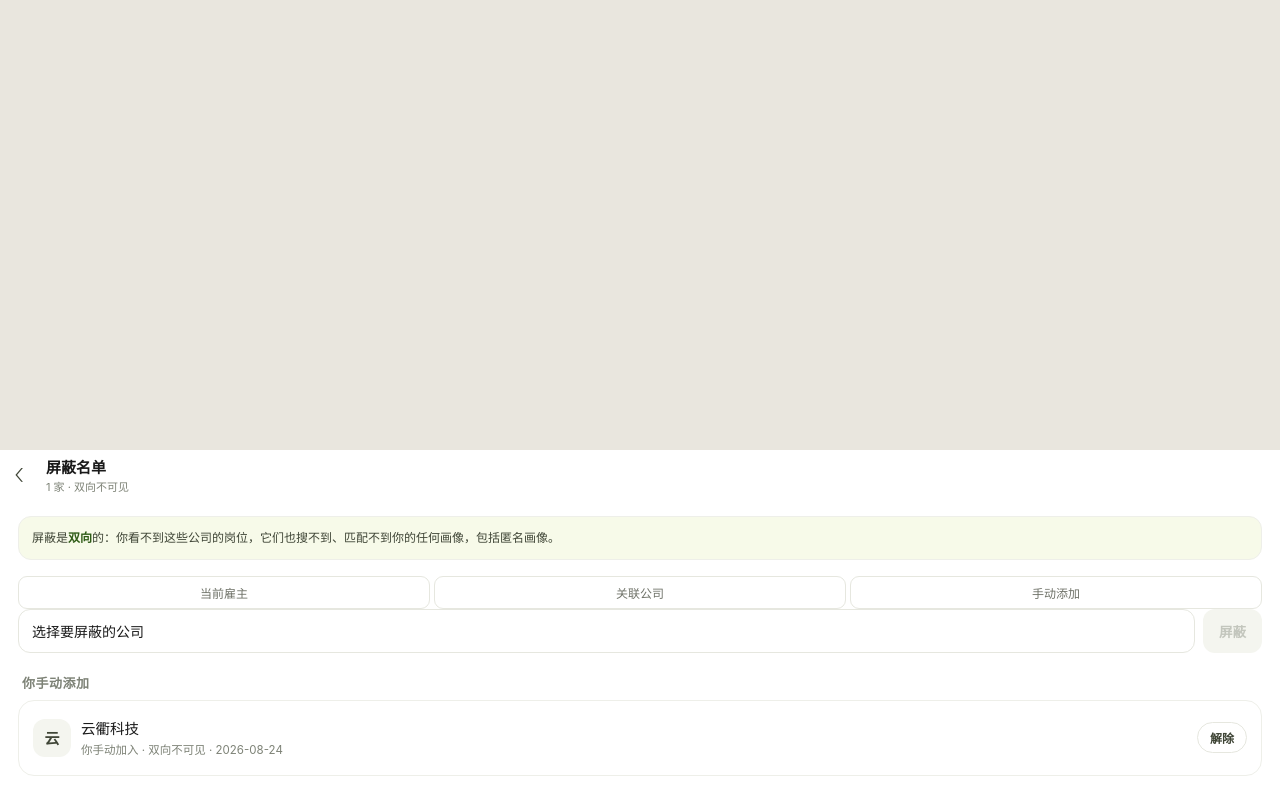
Test: 屏蔽名单 · Backend 公司选择抽屉写线 › 抽屉搜索命中但不点「屏蔽」就没有任何写入，也不派发本地拉黑
(page scrolled)
Expected: the text "你手动添加" is shown once, [22,675,90,691]
Click the button "选择要屏蔽的公司": (88, 631) [18,609,1195,653]
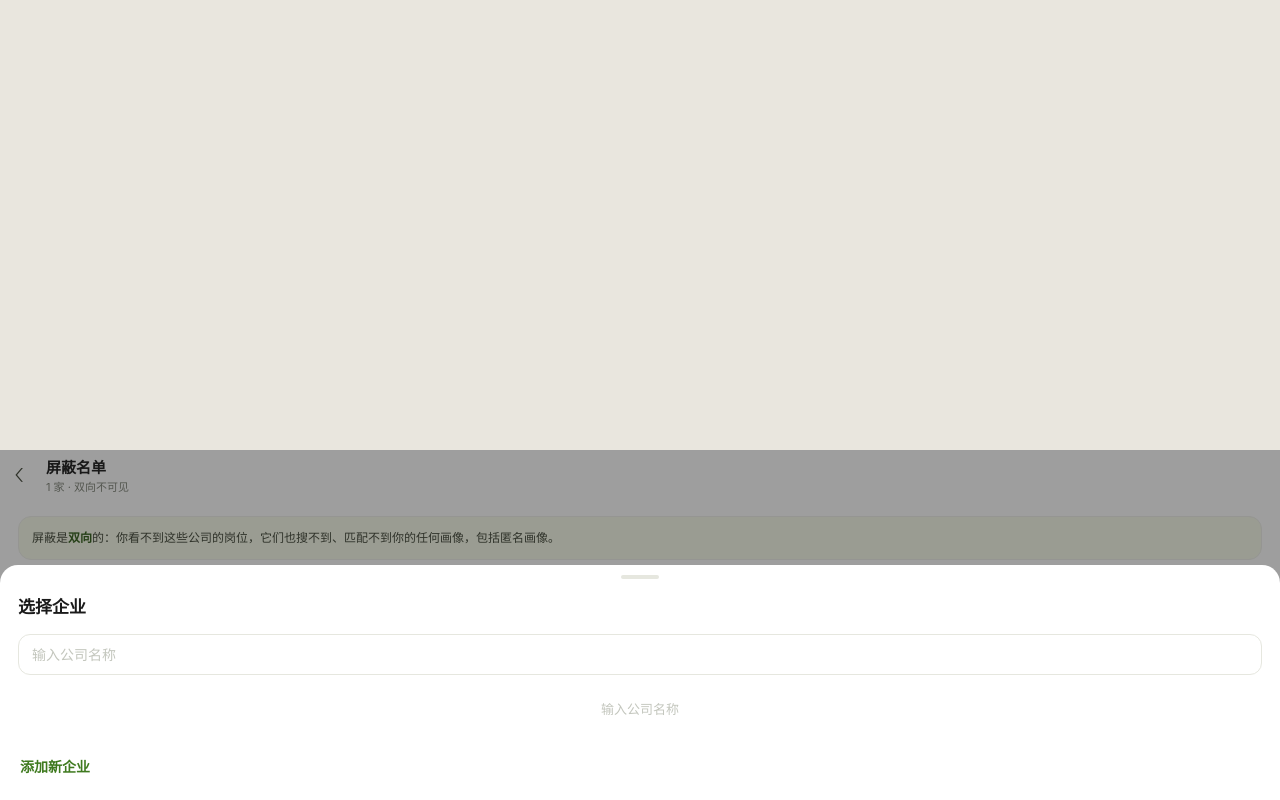
In the field with placeholder "输入公司名称": (640, 655) [18,634,1262,675], type "云衢"
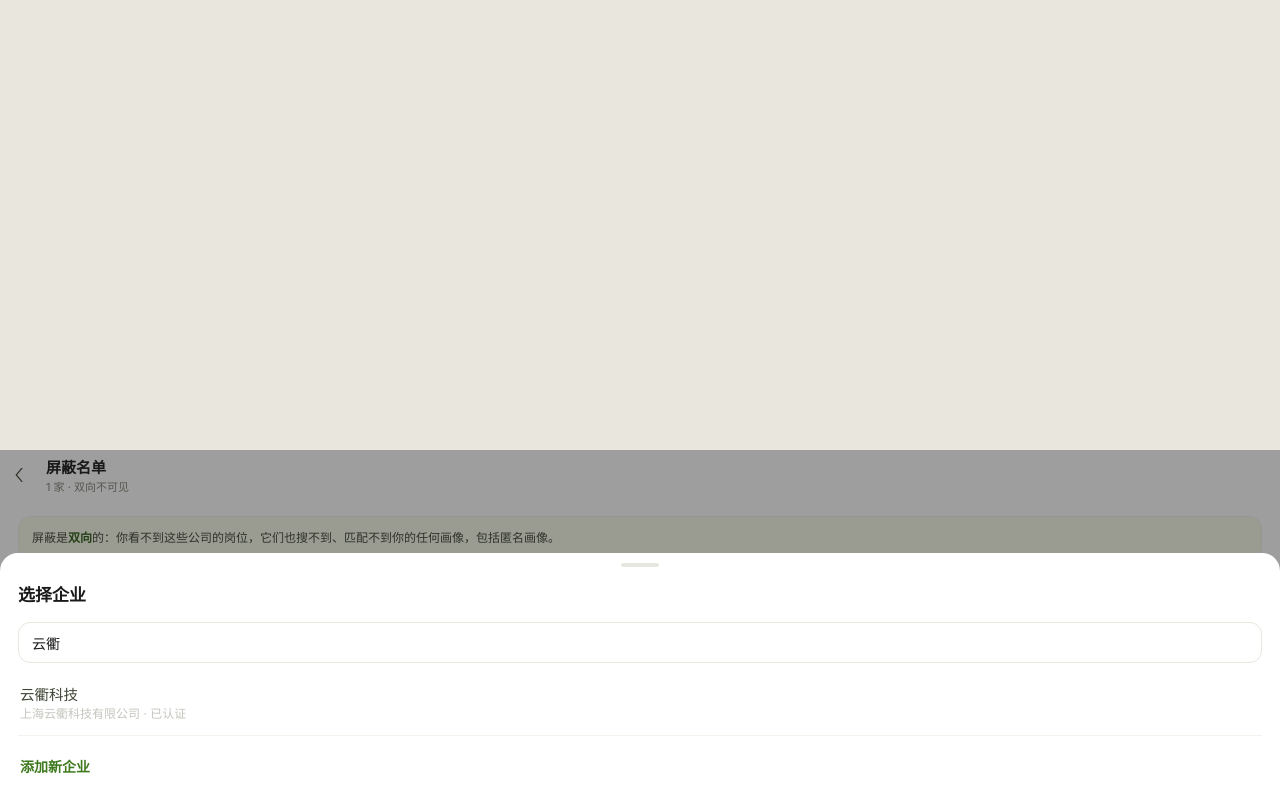
Expected: the button "云衢科技 上海云衢科技有限公司 · 已认证" is shown, [18,669,1262,736]
